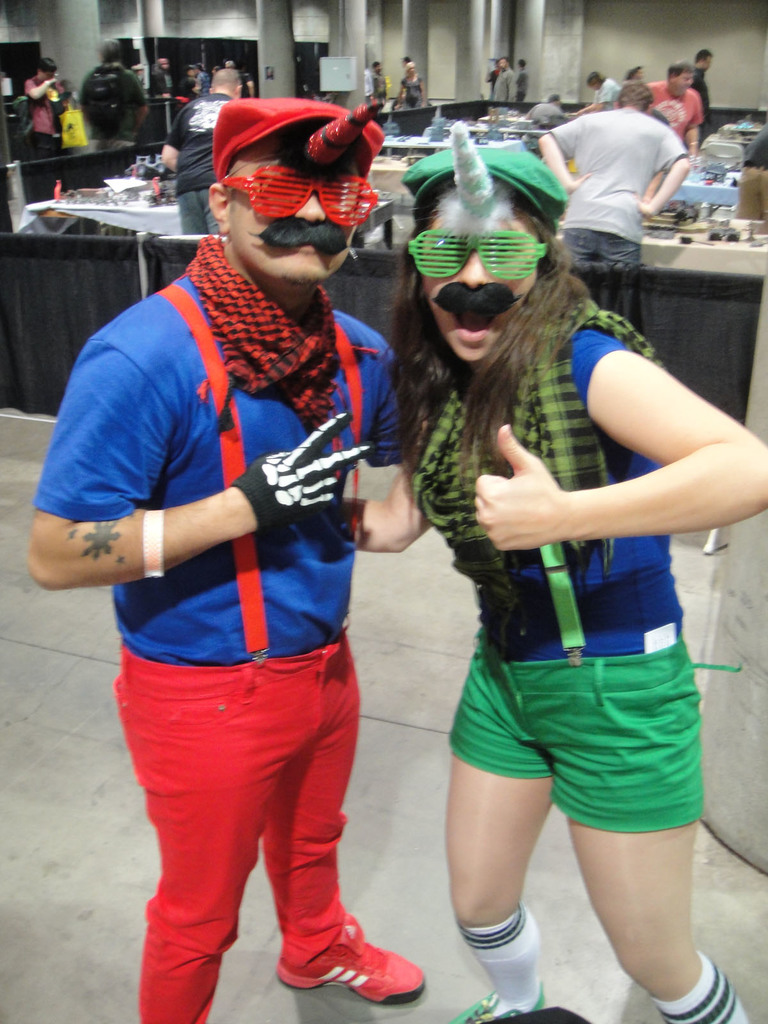Footwear: (272, 910, 422, 1008), (442, 989, 548, 1023)
